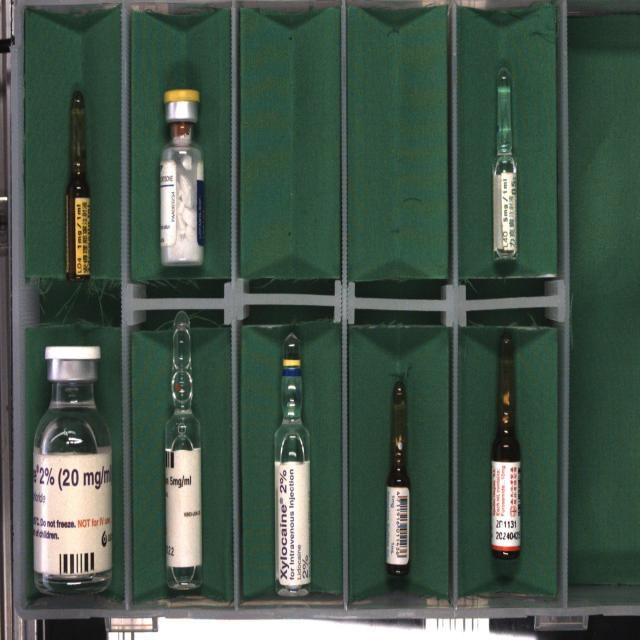Vials: (33, 346, 112, 595), (160, 90, 204, 265)
